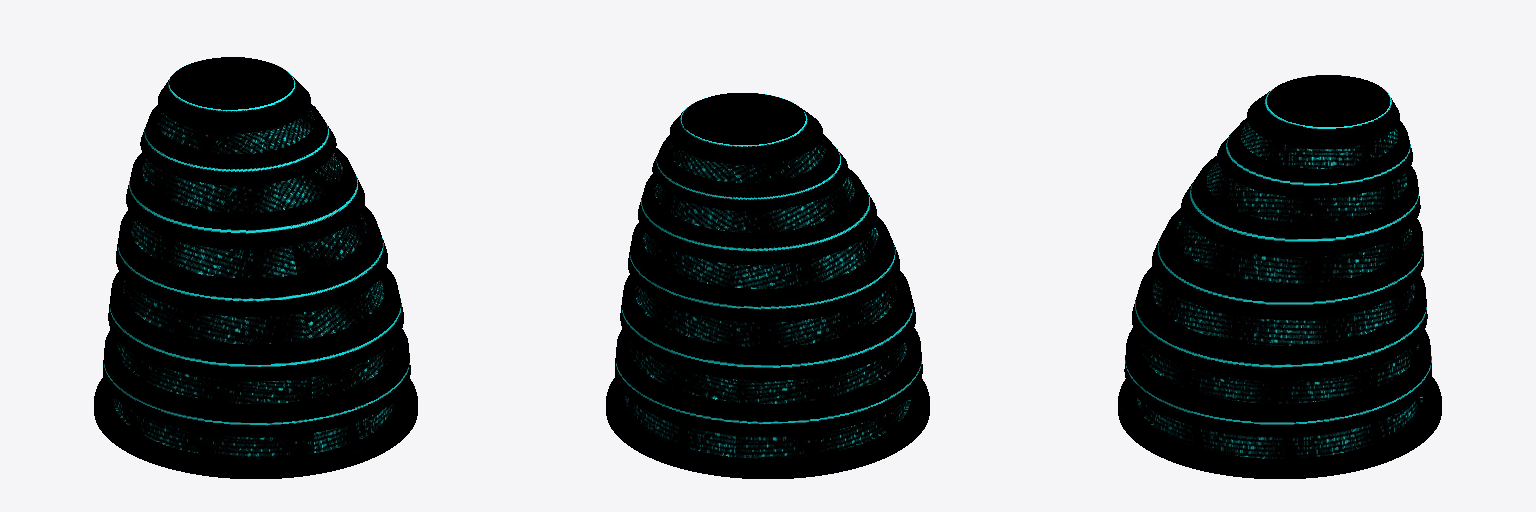
The picture shows the model from 3 angles: view 1: azimuth 30°, elevation 25°; view 2: azimuth 150°, elevation 25°; view 3: azimuth 270°, elevation 25°; orthographic projection.
Parts seen in each view (by area): view 1: Sphere; view 2: Sphere; view 3: Sphere.
Part boxes in pixels (left/top/right/bottom): Sphere: left=94, top=57, right=417, bottom=478; Sphere: left=606, top=93, right=929, bottom=478; Sphere: left=1118, top=75, right=1441, bottom=478.
Bounding box in the file's own units: 69.27 × 73.11 × 69.27.
3 materials, 1 textured.